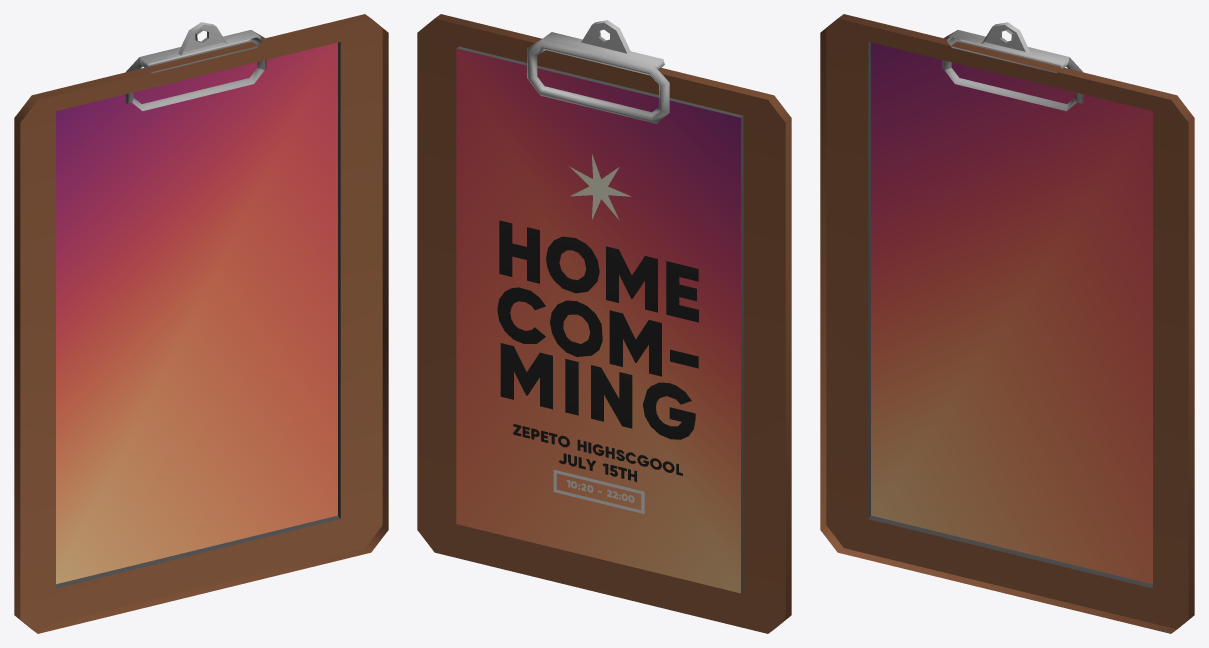
File: CR_MiniBoard_001.FBX
3 renders of one model, left to right at view 1: azimuth 30°, elevation 25°; view 2: azimuth 150°, elevation 25°; view 3: azimuth 330°, elevation 25°, orthographic.
Parts seen in each view (by area): view 1: CR_MiniBoard_001; view 2: CR_MiniBoard_001; view 3: CR_MiniBoard_001.
Boxes of the visible parts, x1,y1,x2,y2 form: CR_MiniBoard_001: (14,14,388,633); CR_MiniBoard_001: (417,14,791,633); CR_MiniBoard_001: (820,14,1194,633).
Bounding box in the file's own units: 33.14 × 48.89 × 1.89.
Materials: 1 (1 with a texture image).
